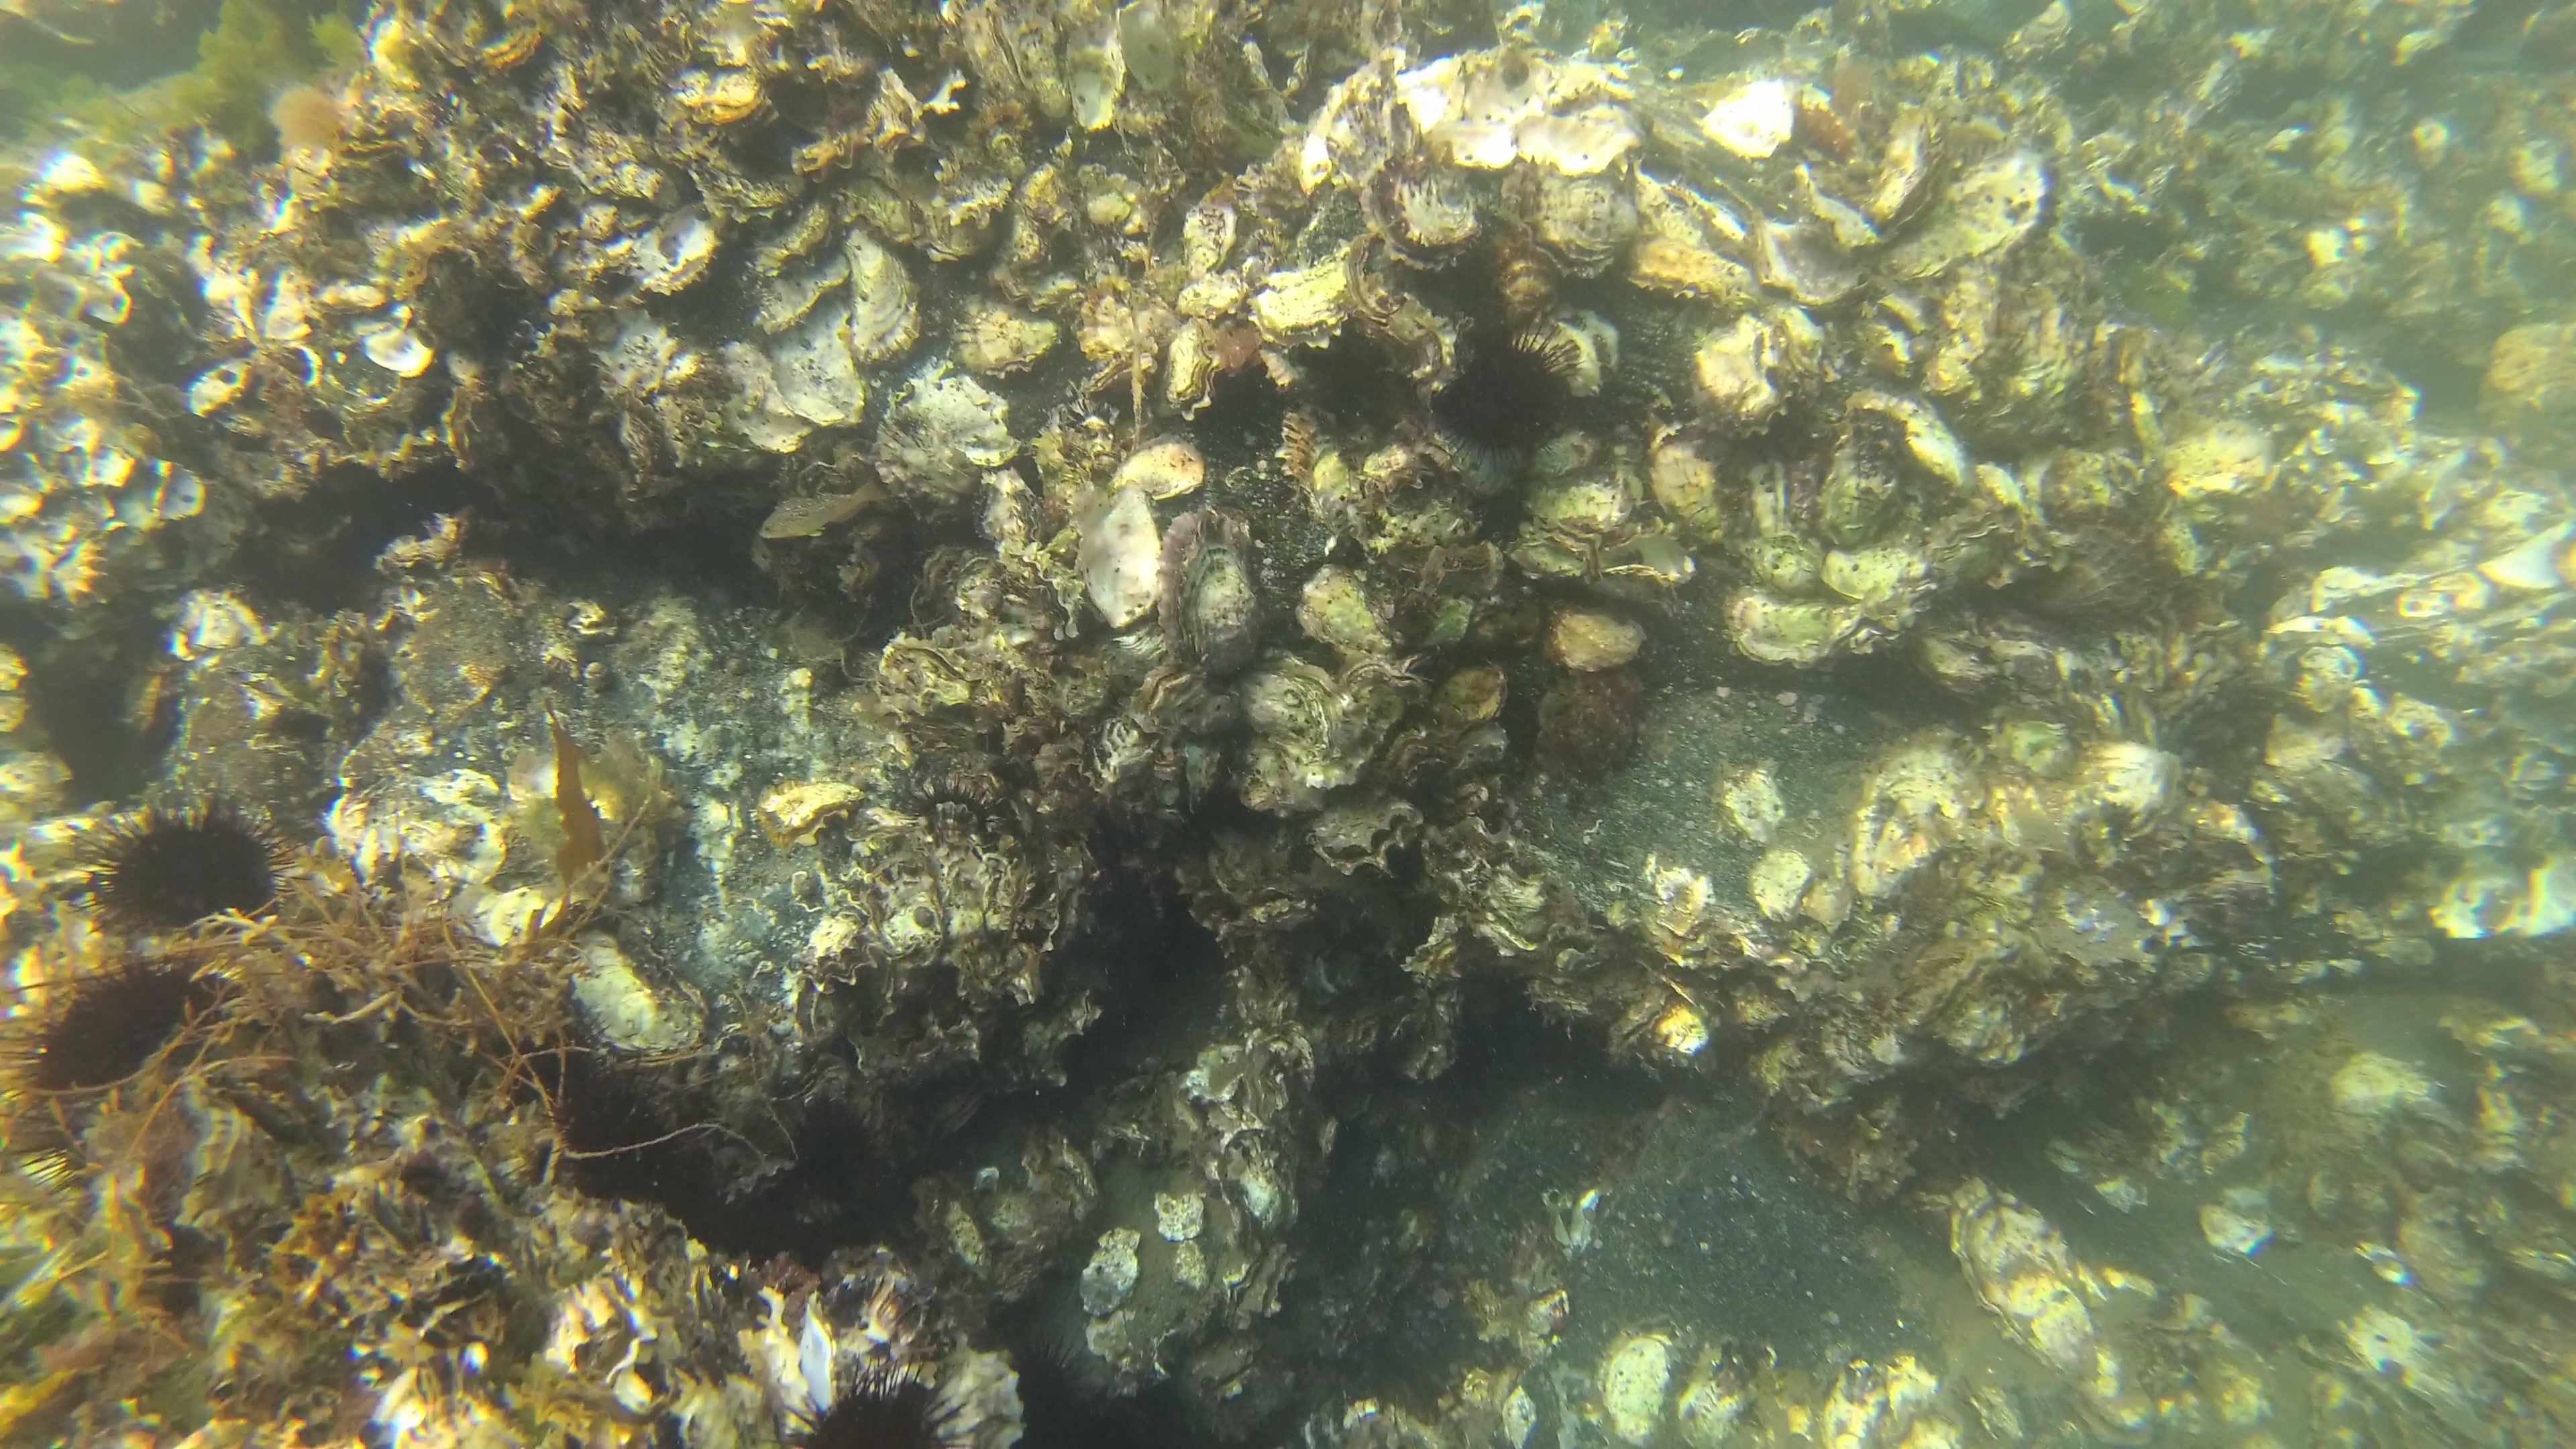echinus: (69, 796, 311, 927), (18, 957, 225, 1092), (1431, 327, 1589, 465), (793, 1359, 955, 1449), (1001, 1332, 1099, 1444)
